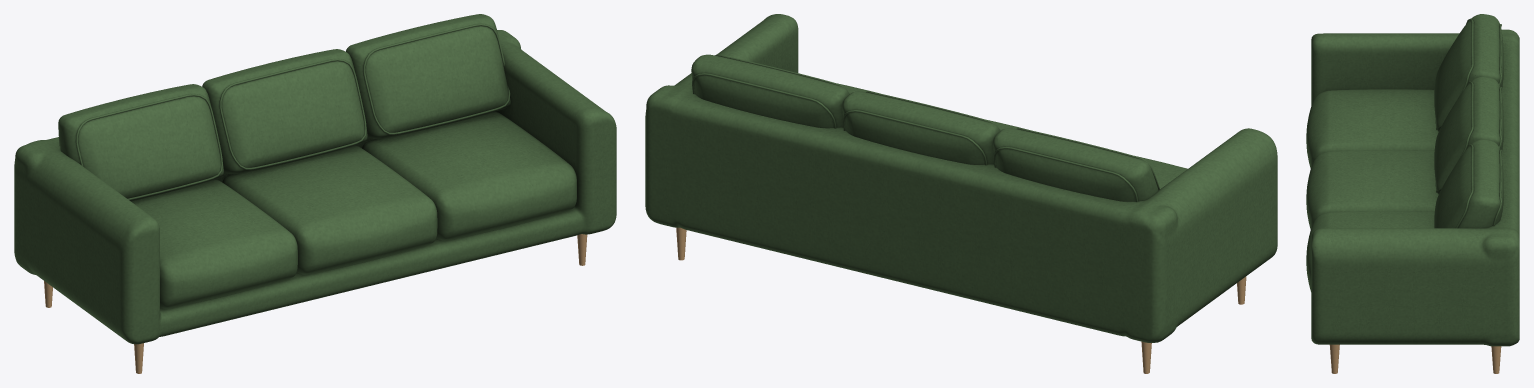
The model's file is nordico-3-cuerpos.glb.
The picture shows the model from 3 angles, left to right: view 1: azimuth 30°, elevation 25°; view 2: azimuth 150°, elevation 25°; view 3: azimuth 270°, elevation 25°; orthographic projection. The views are drawn at different scales.
Parts seen in each view (by area): view 1: tela_ar, madera_ar; view 2: tela_ar, madera_ar; view 3: tela_ar, madera_ar.
Part boxes in pixels (left/top/right/bottom): tela_ar: left=14, top=14, right=616, bottom=344; madera_ar: left=44, top=234, right=587, bottom=373; tela_ar: left=645, top=14, right=1277, bottom=342; madera_ar: left=676, top=227, right=1246, bottom=373; tela_ar: left=1306, top=14, right=1519, bottom=346; madera_ar: left=1329, top=344, right=1501, bottom=373.
Bounding box in the file's own units: 2.2 × 0.82 × 0.92.
Materials: 2 (2 with a texture image).
